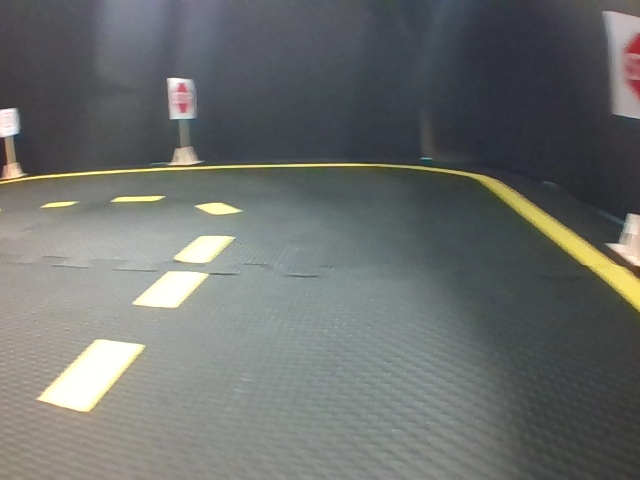30: (1, 109, 16, 134)
stop: (605, 12, 640, 118), (169, 78, 195, 119)
